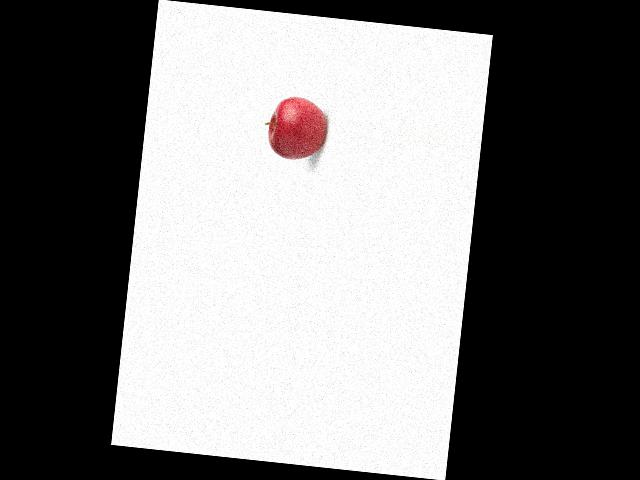apple: (260, 92, 331, 164)
